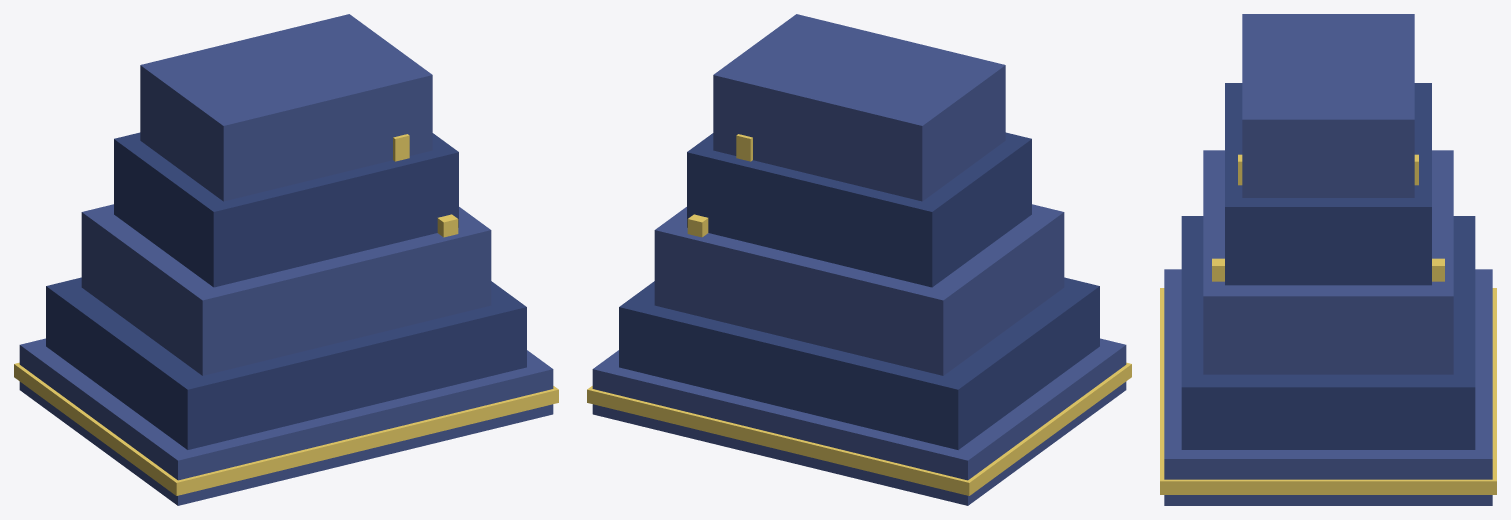
The model's file is vestido_saia.glb.
The picture shows the model from 3 angles, left to right: view 1: azimuth 30°, elevation 25°; view 2: azimuth 150°, elevation 25°; view 3: azimuth 270°, elevation 25°; orthographic projection. The views are drawn at different scales.
Parts seen in each view (by area): view 1: vestido_saia; view 2: vestido_saia; view 3: vestido_saia.
Part boxes in pixels (box(x1,y1,x2,y2)): vestido_saia: box(14, 14, 558, 505); vestido_saia: box(587, 14, 1131, 505); vestido_saia: box(1160, 14, 1496, 505).
Size of the model in its own units: 1.06 by 0.88 by 0.78.
